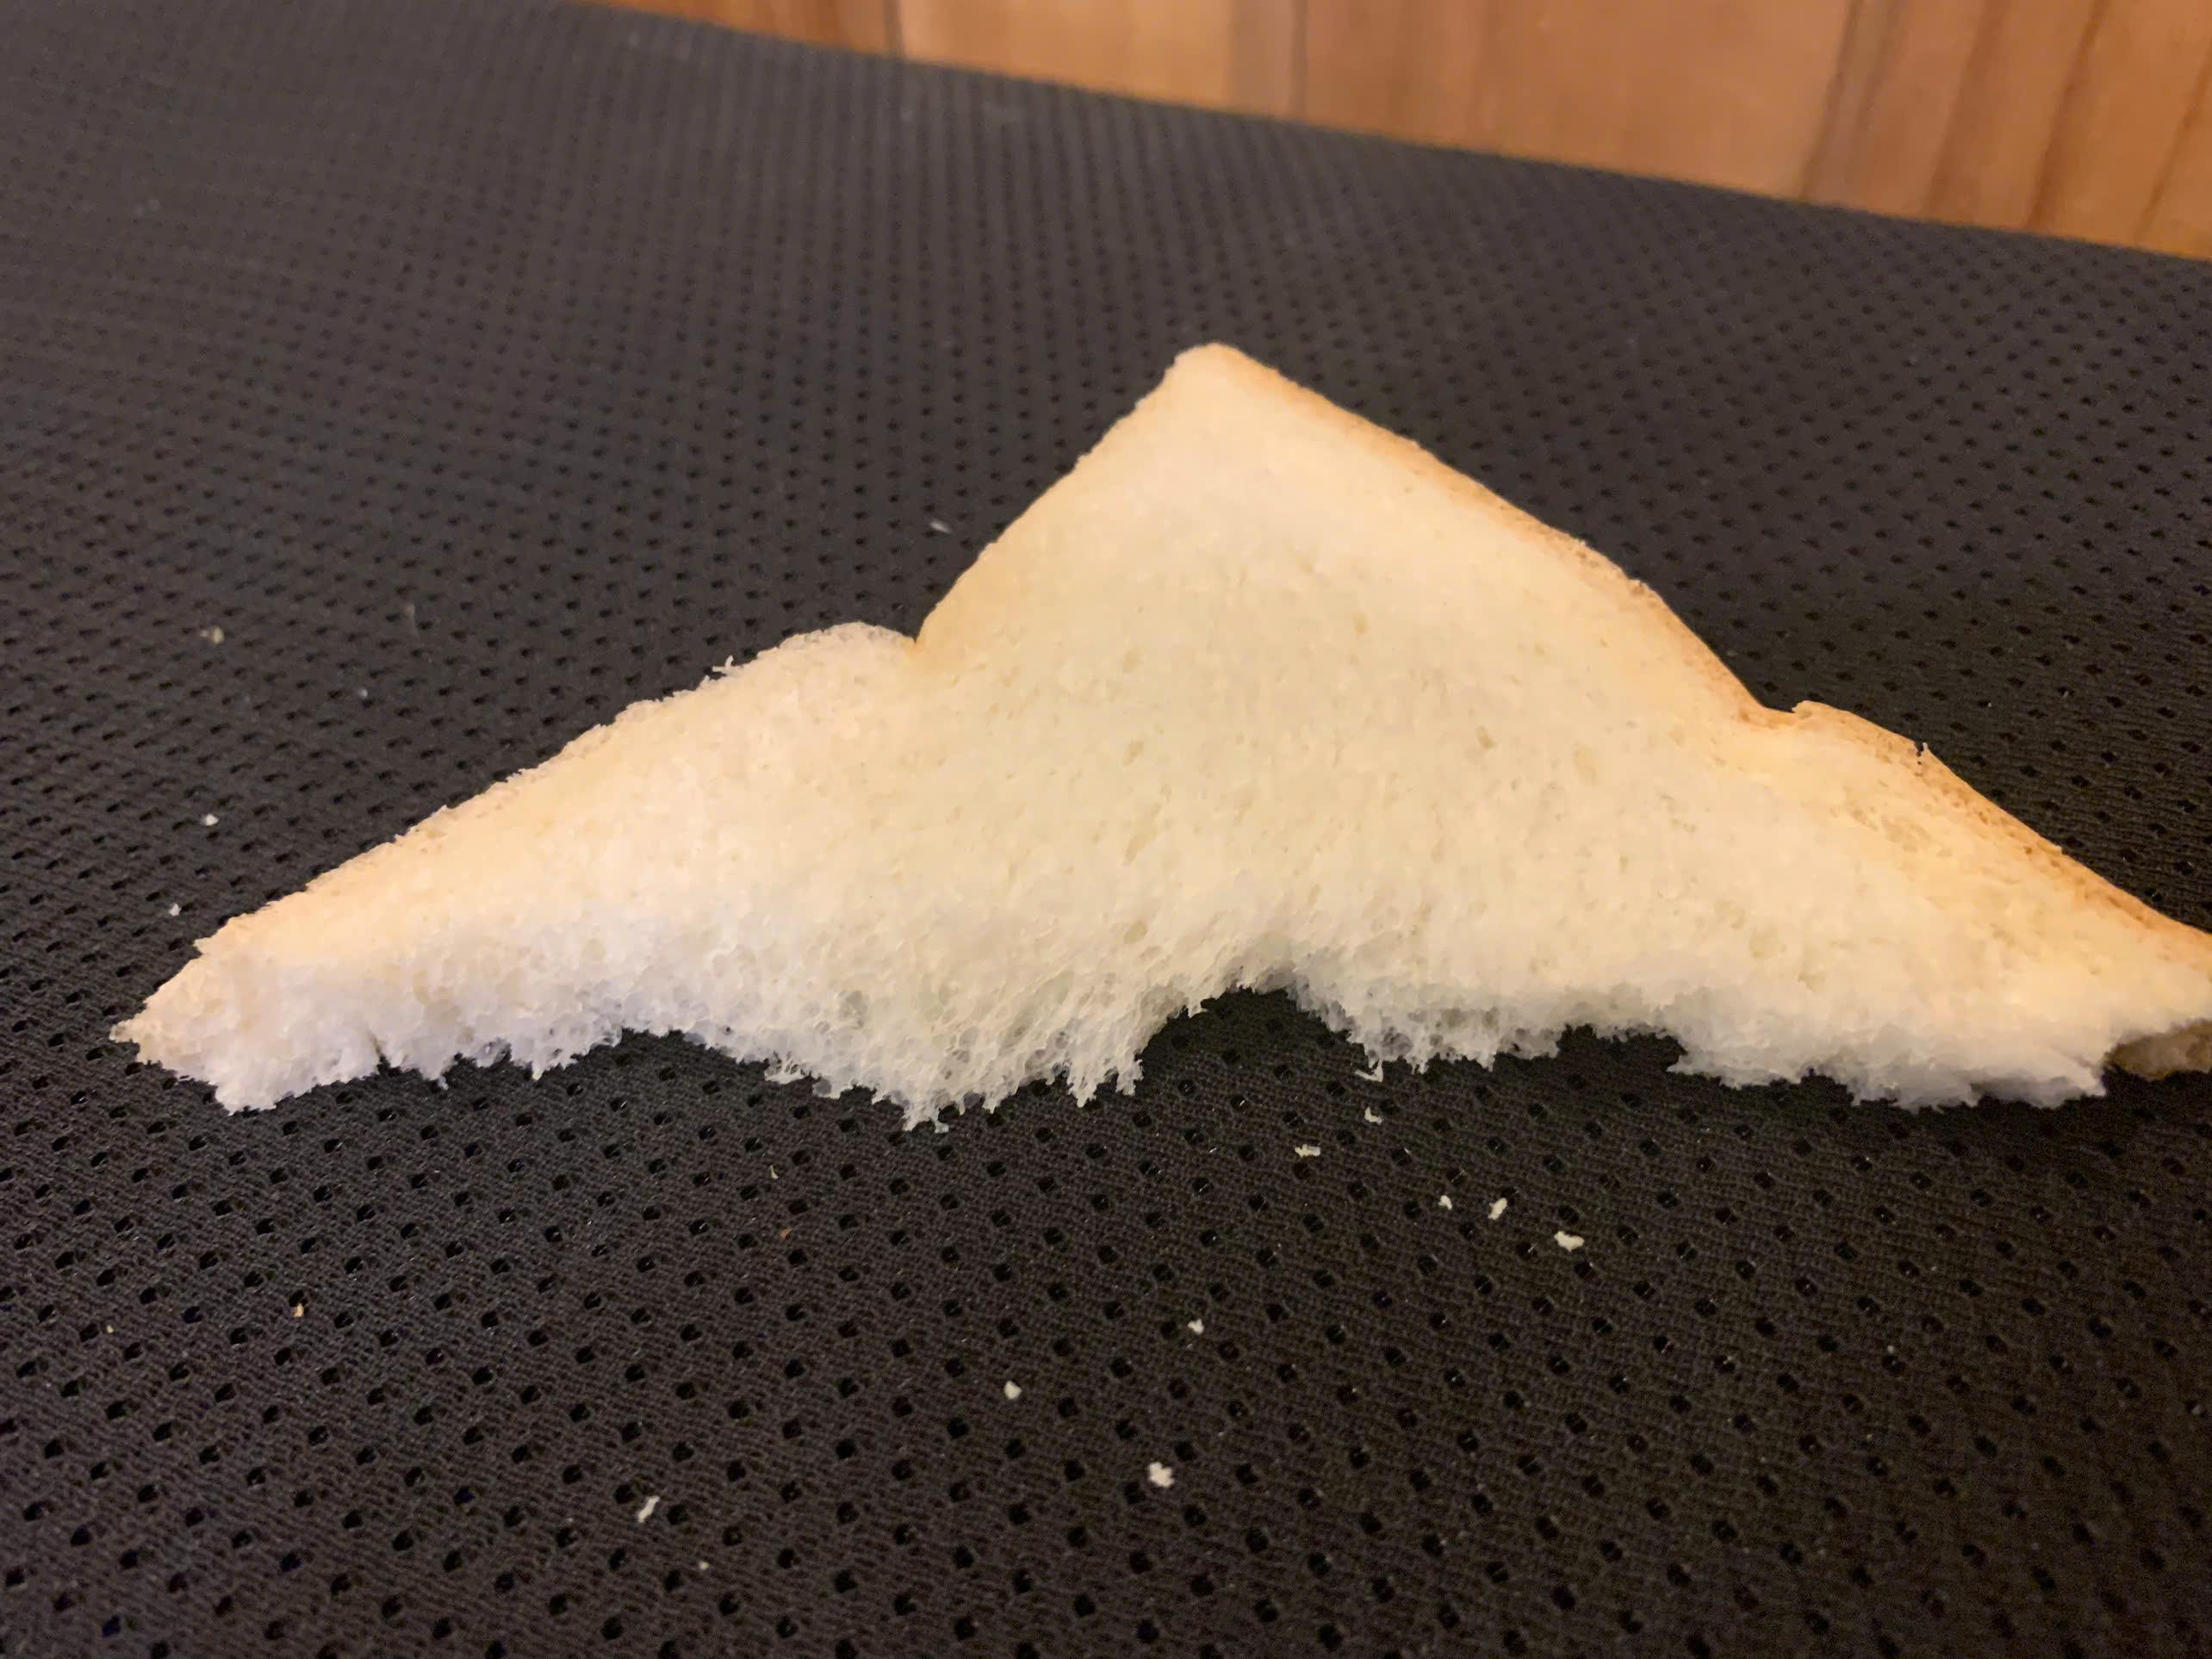Huu co: (129, 342, 2212, 1105)
